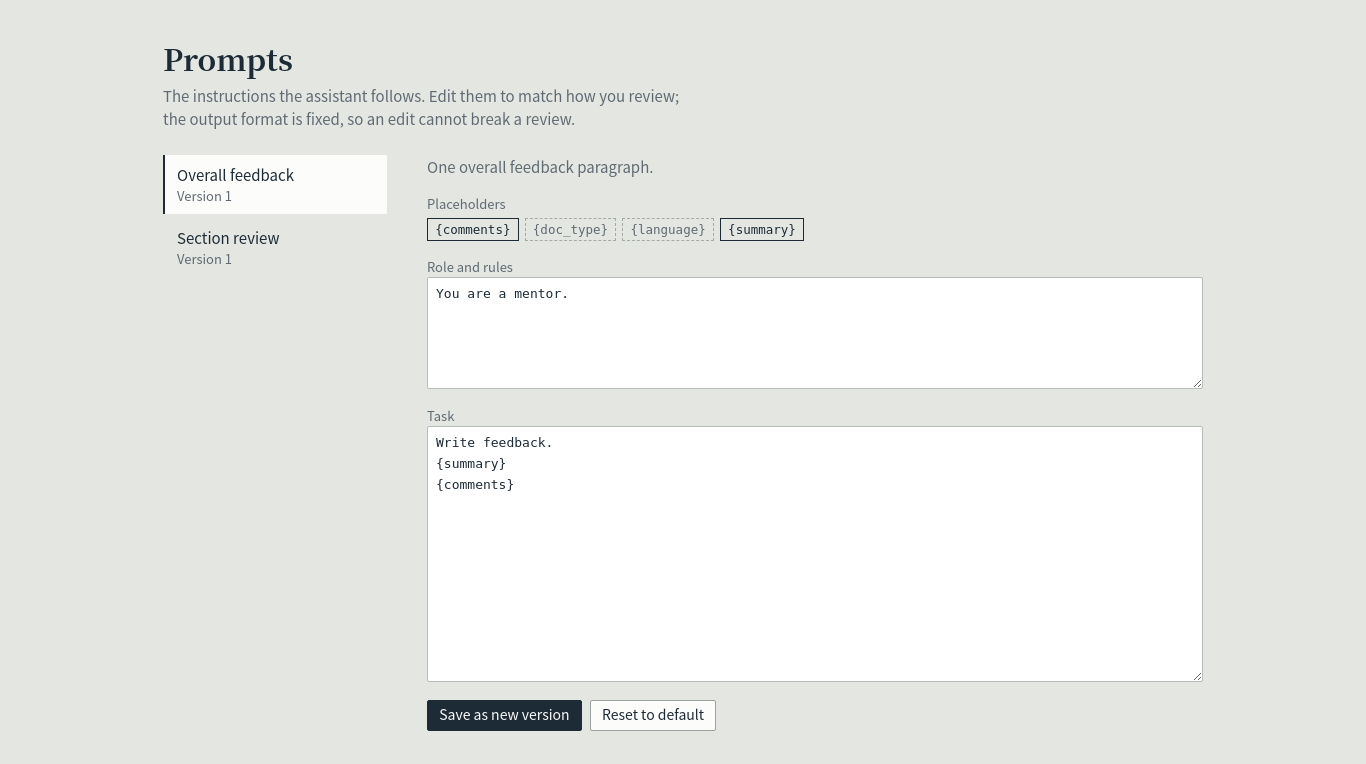
Scenario: choosing another prompt opens it
Click the button "Section review Version 1": (275, 248) [163, 218, 387, 277]
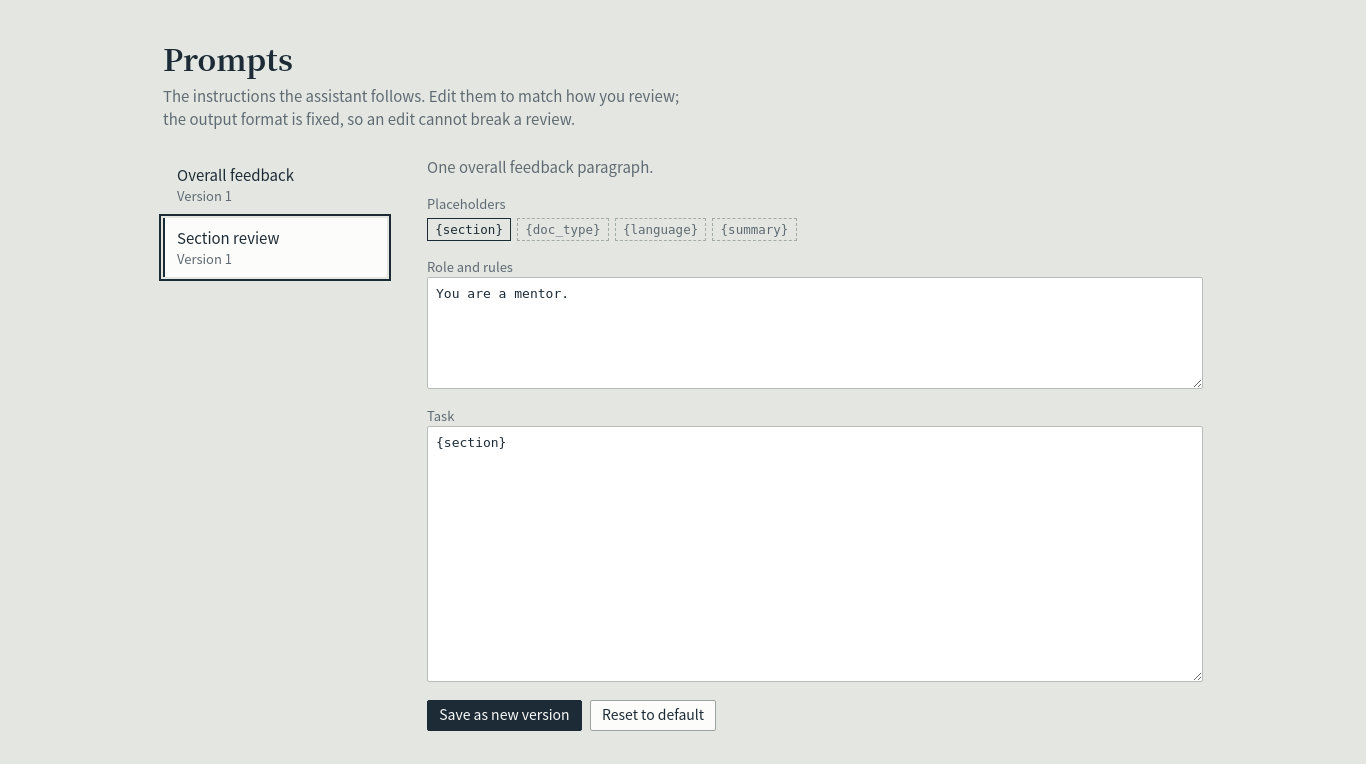
Check: the list item "{section}" is shown, box [427, 218, 511, 241]
